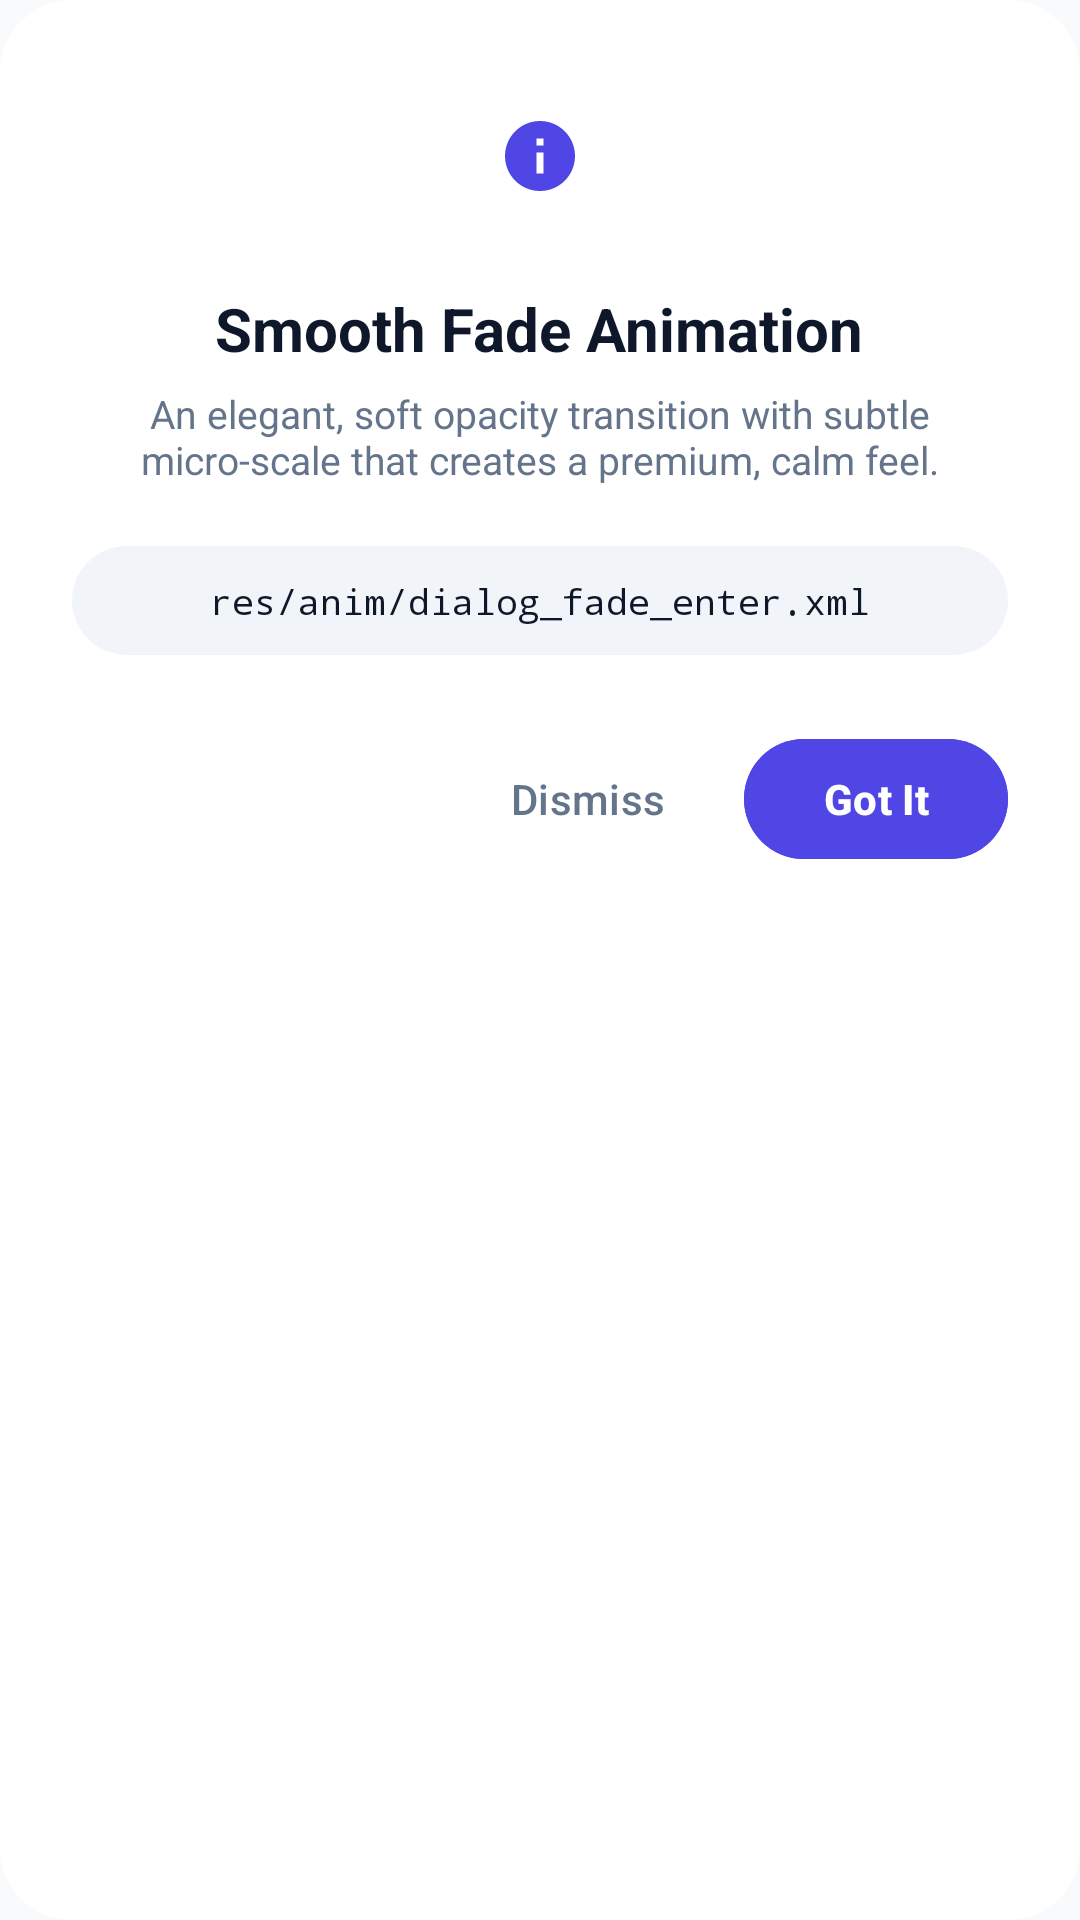

Where icons sit on this 1080*1920 app screen, as rect(x1, y1, x2, y2):
info: rect(505, 121, 575, 191)
